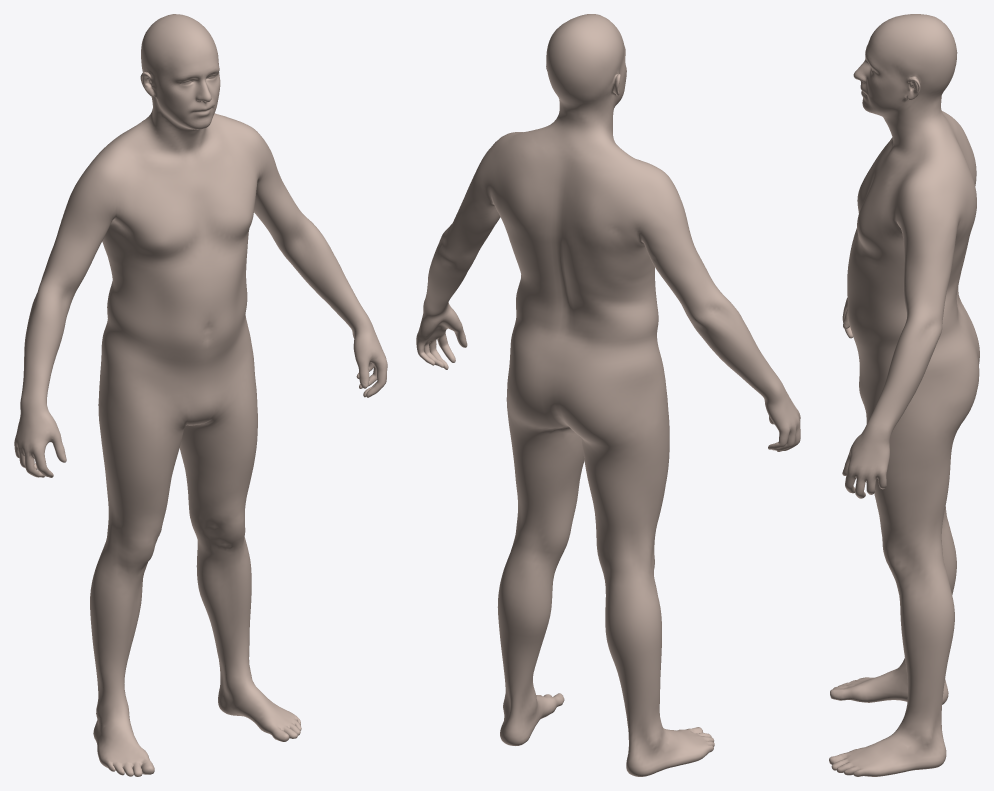
File: smpl-male-surface.glb
The picture shows the model from 3 angles, left to right: view 1: azimuth 30°, elevation 25°; view 2: azimuth 150°, elevation 25°; view 3: azimuth 270°, elevation 25°; orthographic projection. The views are drawn at different scales.
Parts seen in each view (by area): view 1: world; view 2: world; view 3: world.
Boxes of the visible parts, bbox=[...] form: world: bbox=[14, 14, 387, 776]; world: bbox=[416, 14, 800, 776]; world: bbox=[829, 14, 979, 776].
Bounding box in the file's own units: 0.9596 × 1.8 × 0.3415.
